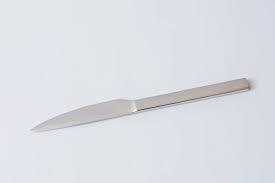Knife: (29, 77, 249, 132)
